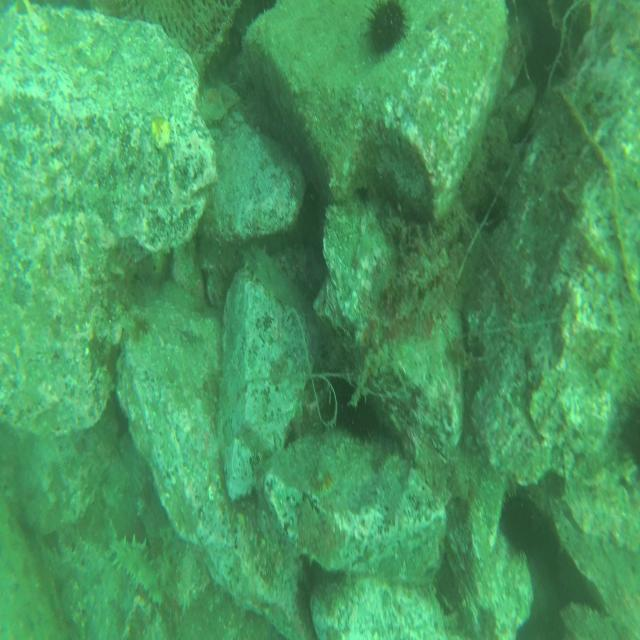echinus: (359, 0, 411, 55)
holothurian: (242, 237, 311, 317), (108, 533, 166, 612), (237, 520, 284, 608), (292, 495, 348, 568), (564, 213, 612, 277), (161, 536, 200, 612)
